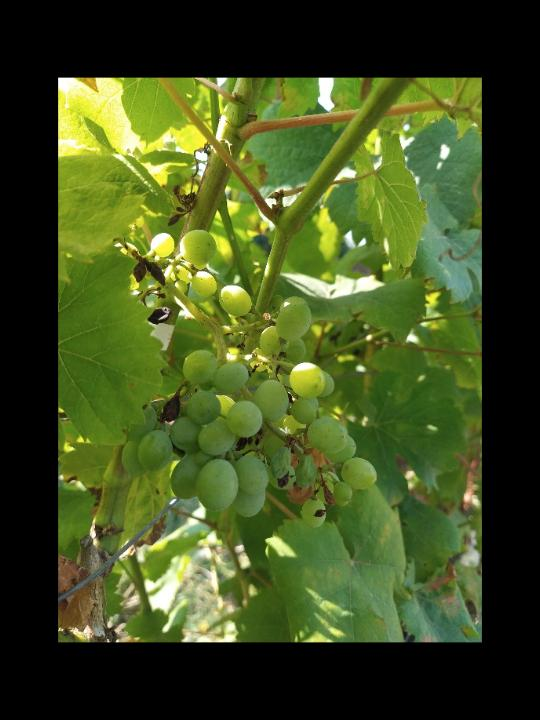grape: (115, 227, 380, 532)
